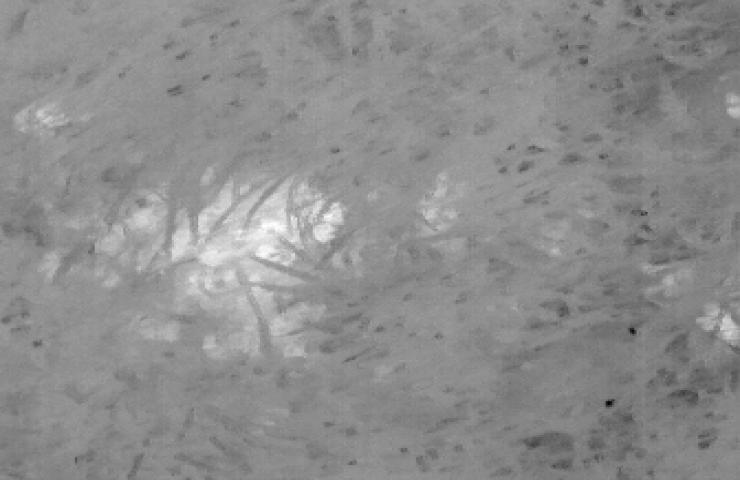landmines: (91, 158, 357, 361)
